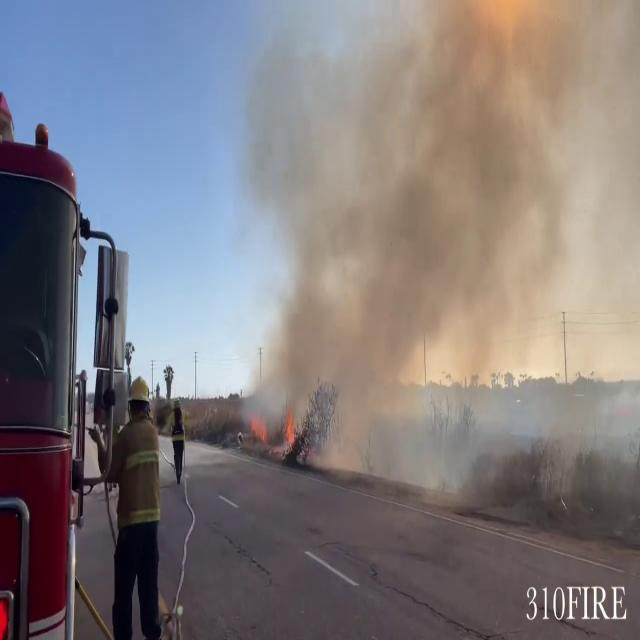Smoke: (242, 0, 640, 465)
